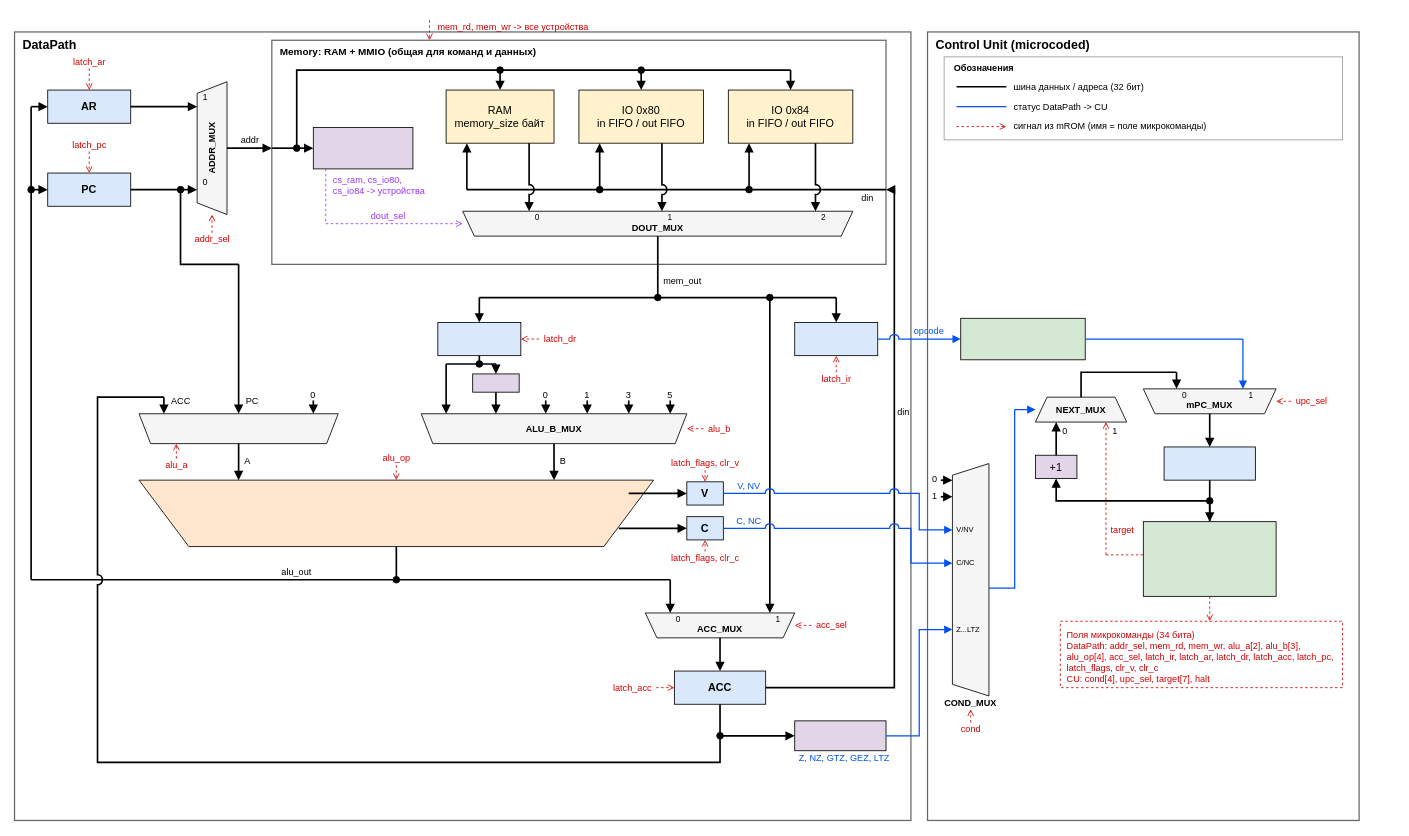
The diagram is 1409 pixels wide and 836 high, and some of its shapes have lost their labels. The centre of each missing label's shape, as x and y in pixels:
"ACC_CMP (acc ? 0)" goes at point (840, 735).
"ADDR_DEC addr = порт?" goes at point (362, 148).
"ALU" goes at point (396, 513).
"ALU_A_MUX" goes at point (238, 428).
"DR" goes at point (479, 339).
"IR [7:0]" goes at point (836, 339).
"MAP_ROM opcode -> maddr" goes at point (1022, 338).
"mPC" goes at point (1209, 463).
"mROM 87 x 34 бит" goes at point (1209, 558).
"SXT16" goes at point (495, 382).
